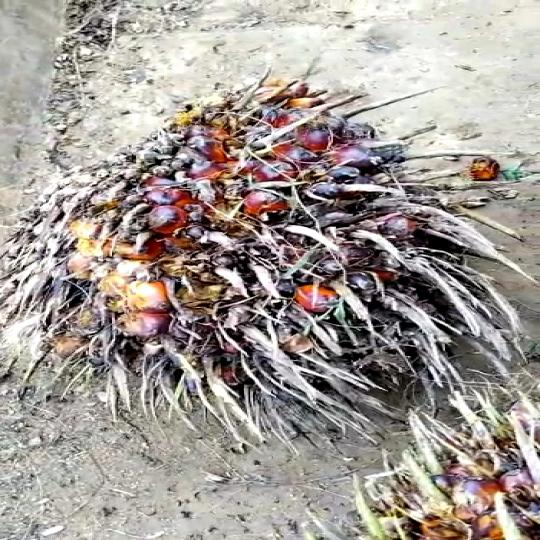terlalu masak: (0, 82, 540, 467)
